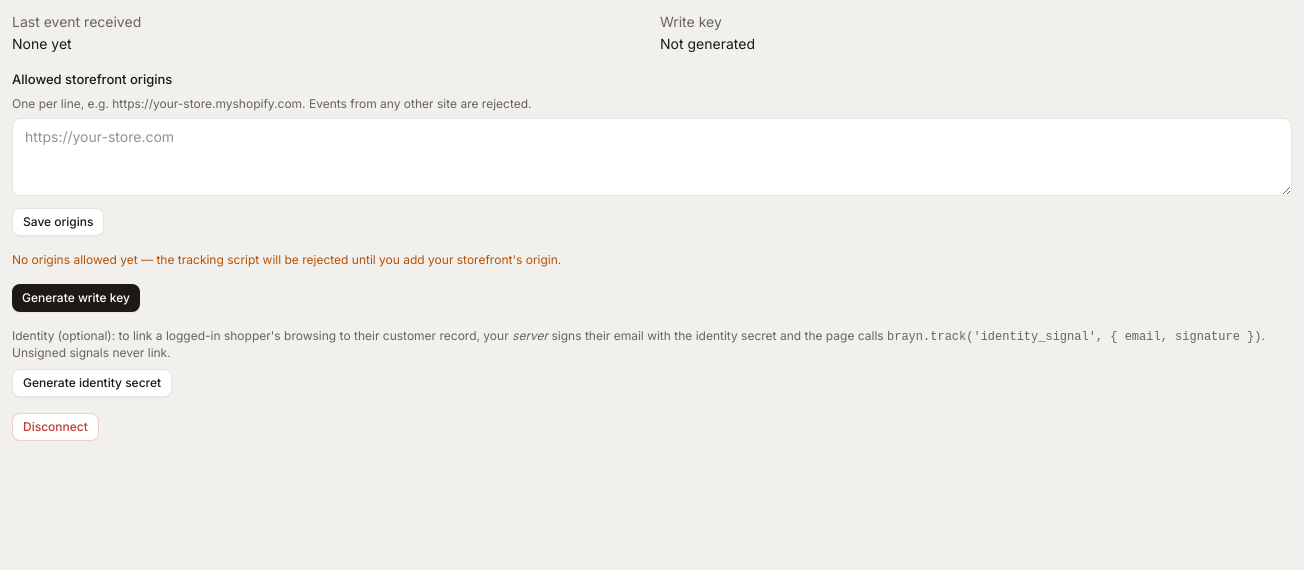
Test: WebsiteTrackingSetup › generates a write key and shows the install snippet once
Click the button "Generate write key". click: (76,298)
box: [12,284,140,312]
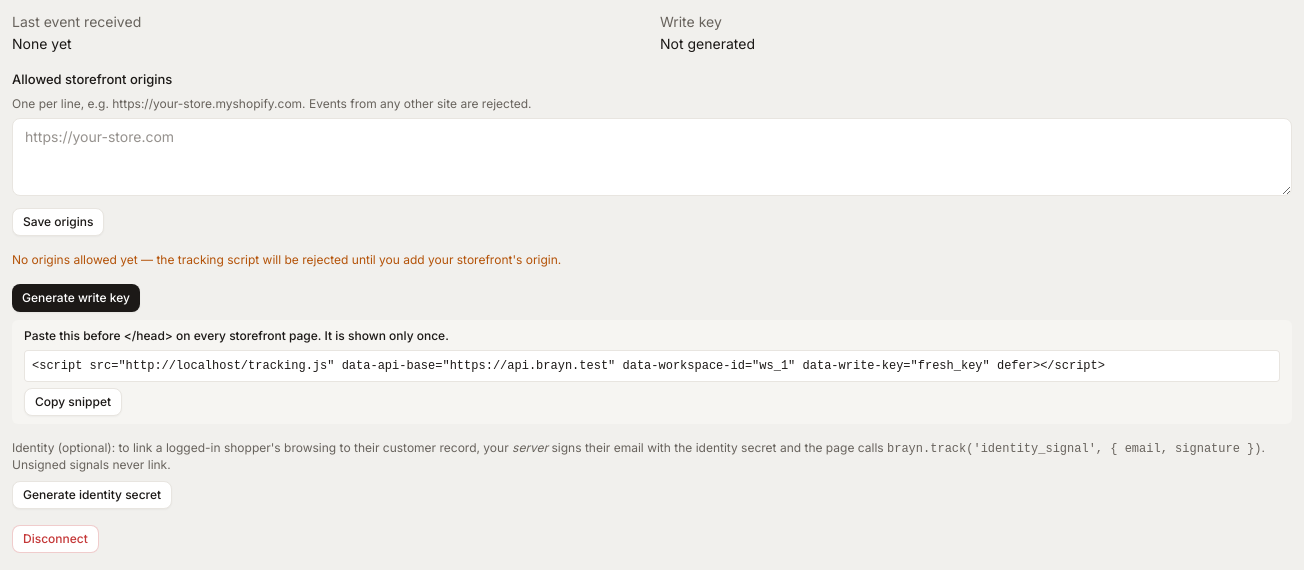
Expected: the text "data-workspace-id=\"ws_1\"" is shown, [32,358,1105,372]
